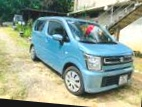car: (25, 14, 137, 100)
